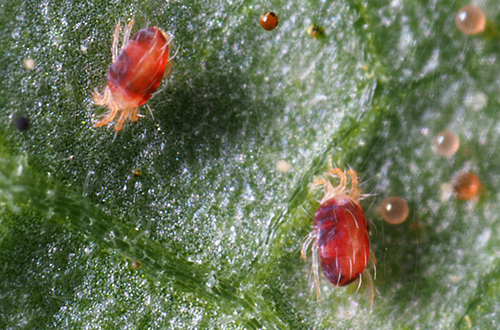Mites: (90, 14, 211, 145), (271, 167, 382, 303)
